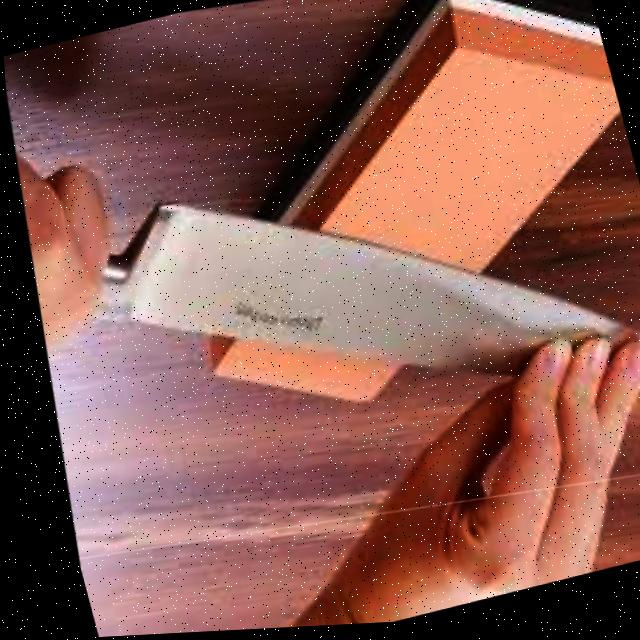knife: (52, 93, 640, 518)
